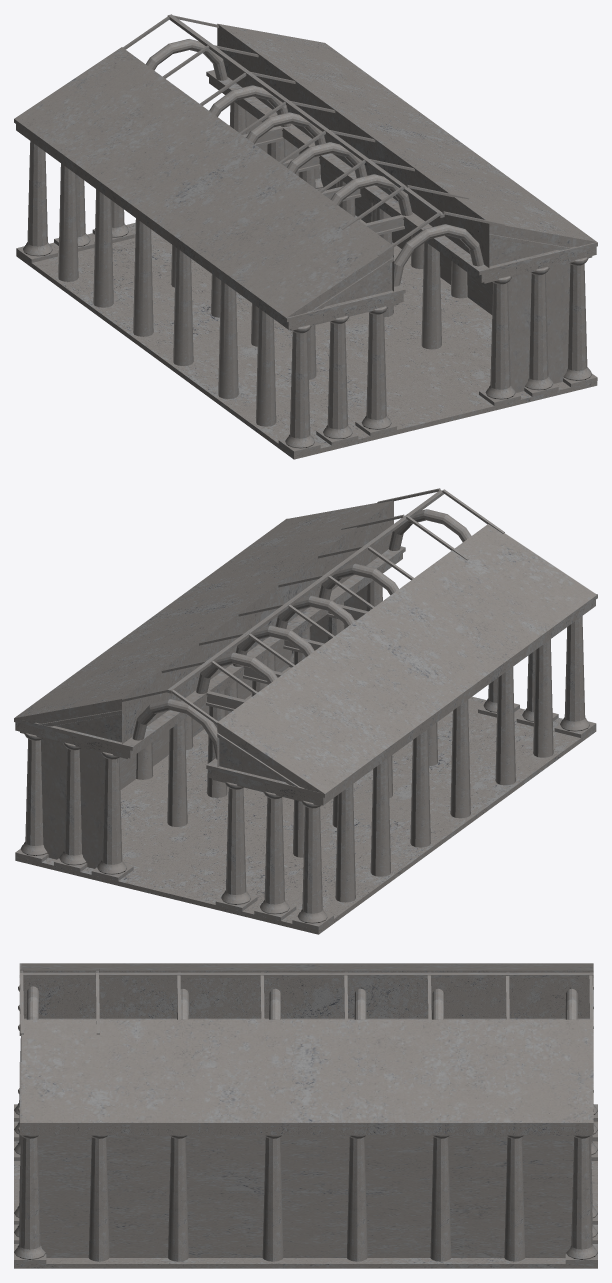
File: restaurantTest2.fbx
3 views of the same model, one above another, from view 1: azimuth 30°, elevation 25°; view 2: azimuth 150°, elevation 25°; view 3: azimuth 270°, elevation 25° (orthographic). The views are drawn at different scales.
Visible parts, largest first — view 1: polySurface2, pCube1, polySurface1, mirrorPanel1, RoofRight2, RoofLeft, ColumnOnPedestal2, pasted__ColumnOnPedestal2, pasted__ColumnOnPedestal, pasted__ColumnOnPedestal1, pasted__ColumnOnPedestal3, ColumnOnPedestal3 (+20 smaller); view 2: polySurface2, pCube1, polySurface1, mirrorPanel2, RoofRight2, RoofLeft, pasted__ColumnOnPedestal7, pasted__ColumnOnPedestal6, ColumnOnPedestal5, pasted__ColumnOnPedestal5, pasted__ColumnOnPedestal, RoofLeft1 (+22 smaller); view 3: polySurface1, mirrorPanel3, polySurface2, pCube1, RoofLeft1, RoofLeft3, RoofRight2, ColumnOnPedestal3, ColumnOnPedestal4, column27, column12, column13 (+4 smaller).
Part boxes in pixels (x1=…): polySurface2: x1=14, y1=47, x2=393, y2=317; pCube1: x1=16, y1=215, x2=597, y2=459; polySurface1: x1=217, y1=23, x2=596, y2=268; mirrorPanel1: x1=508, y1=263, x2=570, y2=392; RoofRight2: x1=206, y1=43, x2=597, y2=275; RoofLeft: x1=16, y1=124, x2=403, y2=330; ColumnOnPedestal2: x1=355, y1=306, x2=396, y2=436; pasted__ColumnOnPedestal2: x1=479, y1=276, x2=520, y2=405; pasted__ColumnOnPedestal: x1=278, y1=325, x2=320, y2=454; pasted__ColumnOnPedestal1: x1=316, y1=315, x2=358, y2=445; pasted__ColumnOnPedestal3: x1=524, y1=267, x2=558, y2=396; ColumnOnPedestal3: x1=563, y1=257, x2=597, y2=387; polySurface2: x1=217, y1=524, x2=596, y2=793; pCube1: x1=15, y1=667, x2=596, y2=934; polySurface1: x1=14, y1=500, x2=393, y2=744; mirrorPanel2: x1=41, y1=738, x2=117, y2=868; RoofRight2: x1=14, y1=518, x2=405, y2=750; RoofLeft: x1=208, y1=600, x2=595, y2=806; pasted__ColumnOnPedestal7: x1=292, y1=800, x2=333, y2=930; pasted__ColumnOnPedestal6: x1=254, y1=791, x2=296, y2=920; ColumnOnPedestal5: x1=215, y1=782, x2=257, y2=911; pasted__ColumnOnPedestal5: x1=91, y1=752, x2=133, y2=880; pasted__ColumnOnPedestal: x1=554, y1=616, x2=596, y2=737; RoofLeft1: x1=15, y1=553, x2=402, y2=758; polySurface1: x1=21, y1=1019, x2=593, y2=1122; mirrorPanel3: x1=37, y1=1135, x2=573, y2=1257; polySurface2: x1=21, y1=963, x2=593, y2=1018; pCube1: x1=14, y1=1121, x2=597, y2=1268; RoofLeft1: x1=19, y1=1127, x2=593, y2=1135; RoofLeft3: x1=19, y1=972, x2=593, y2=977; RoofRight2: x1=19, y1=1062, x2=593, y2=1126; ColumnOnPedestal3: x1=14, y1=1127, x2=46, y2=1263; ColumnOnPedestal4: x1=565, y1=1129, x2=597, y2=1263; column27: x1=168, y1=1135, x2=188, y2=1261; column12: x1=504, y1=1135, x2=525, y2=1261; column13: x1=430, y1=1135, x2=451, y2=1261.
Bounding box in the file's own units: 19.94 × 12.74 × 30.83.
1 material, 1 textured.
